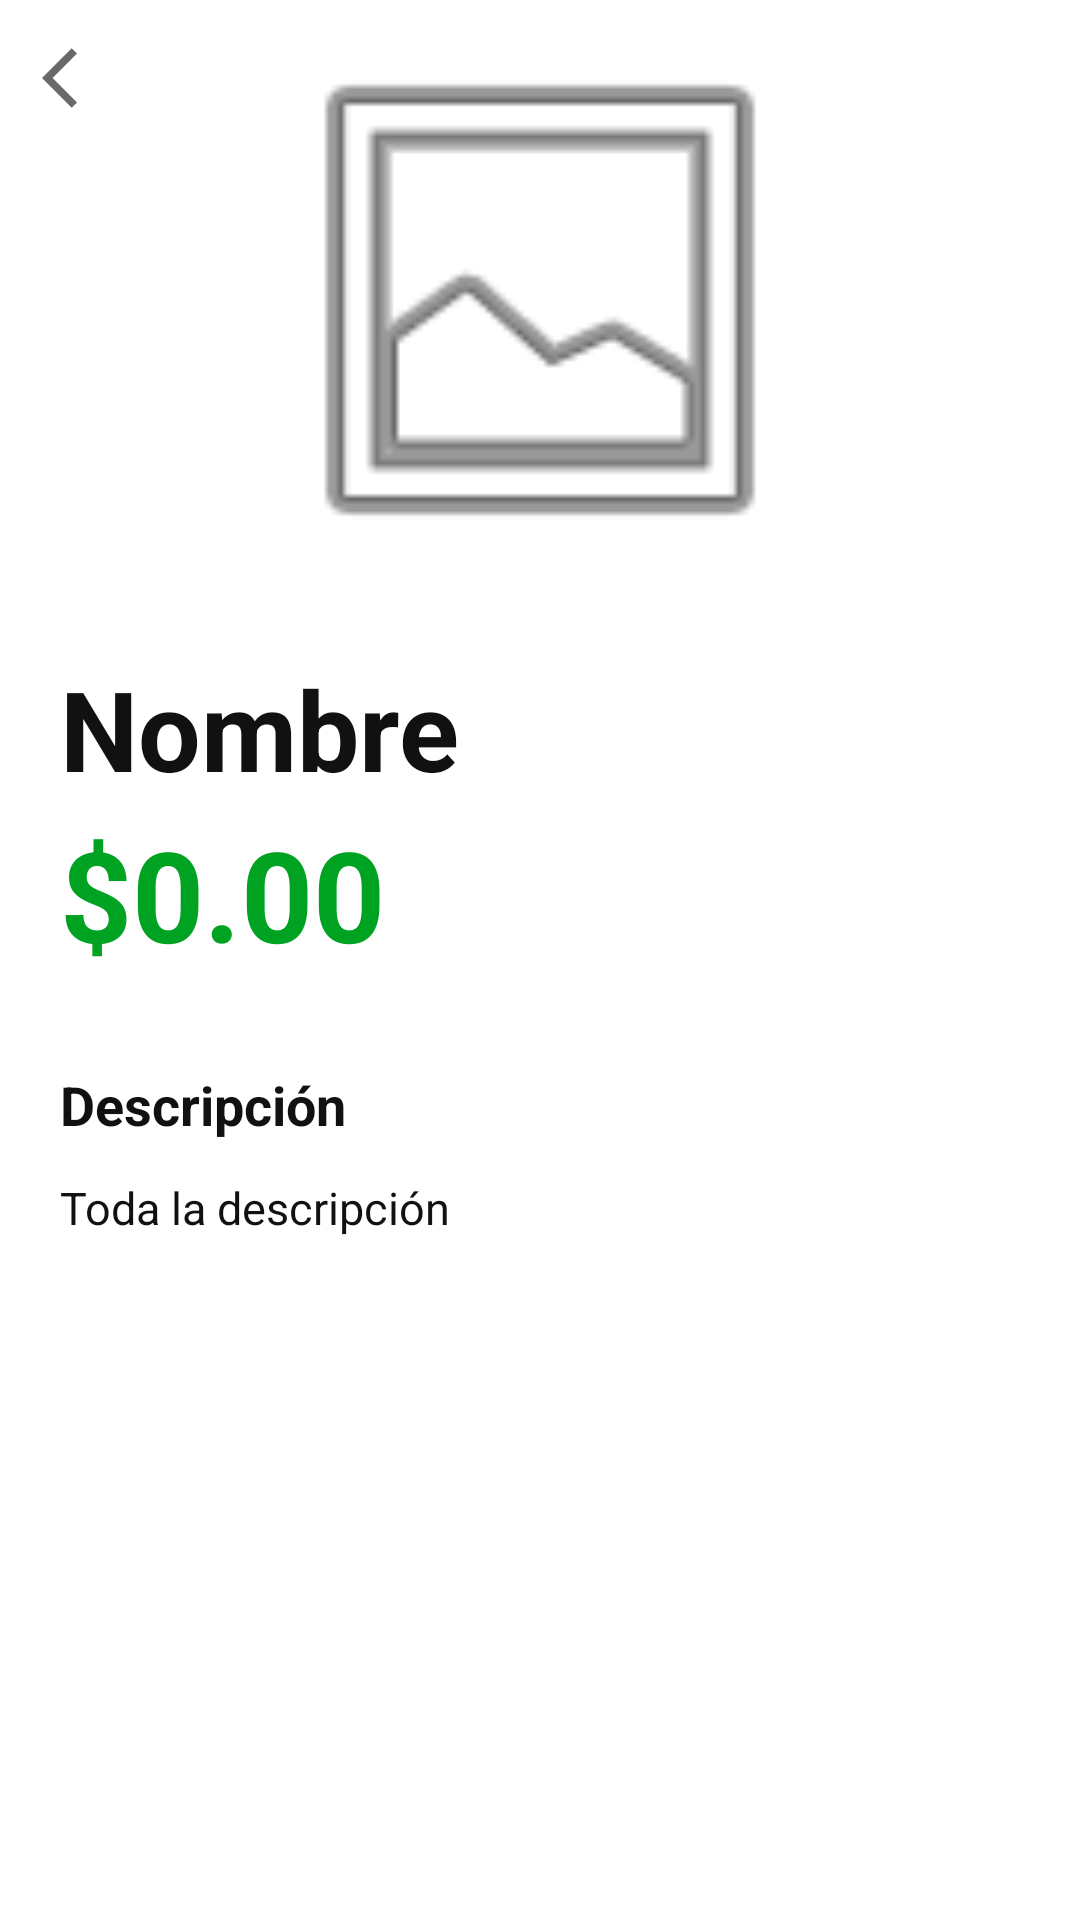

Icons on this 1080px×1920px Android screen, each with the point to tap as point (x, y):
Volver: point (59, 78)
